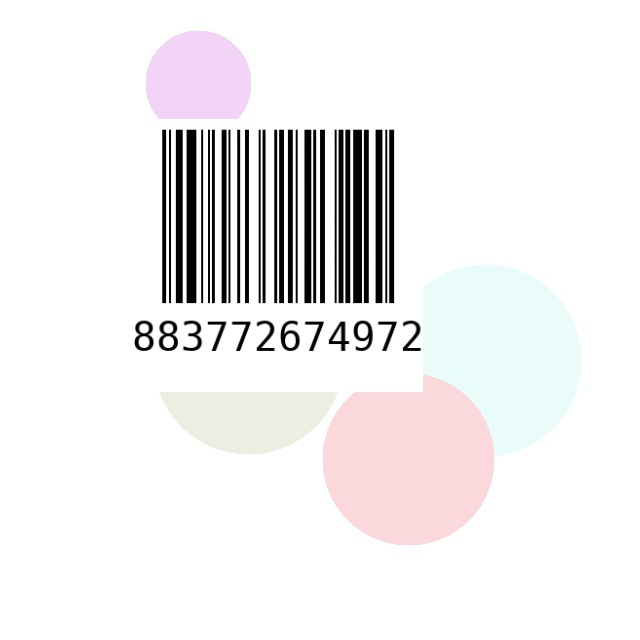barcode: (133, 119, 423, 392)
